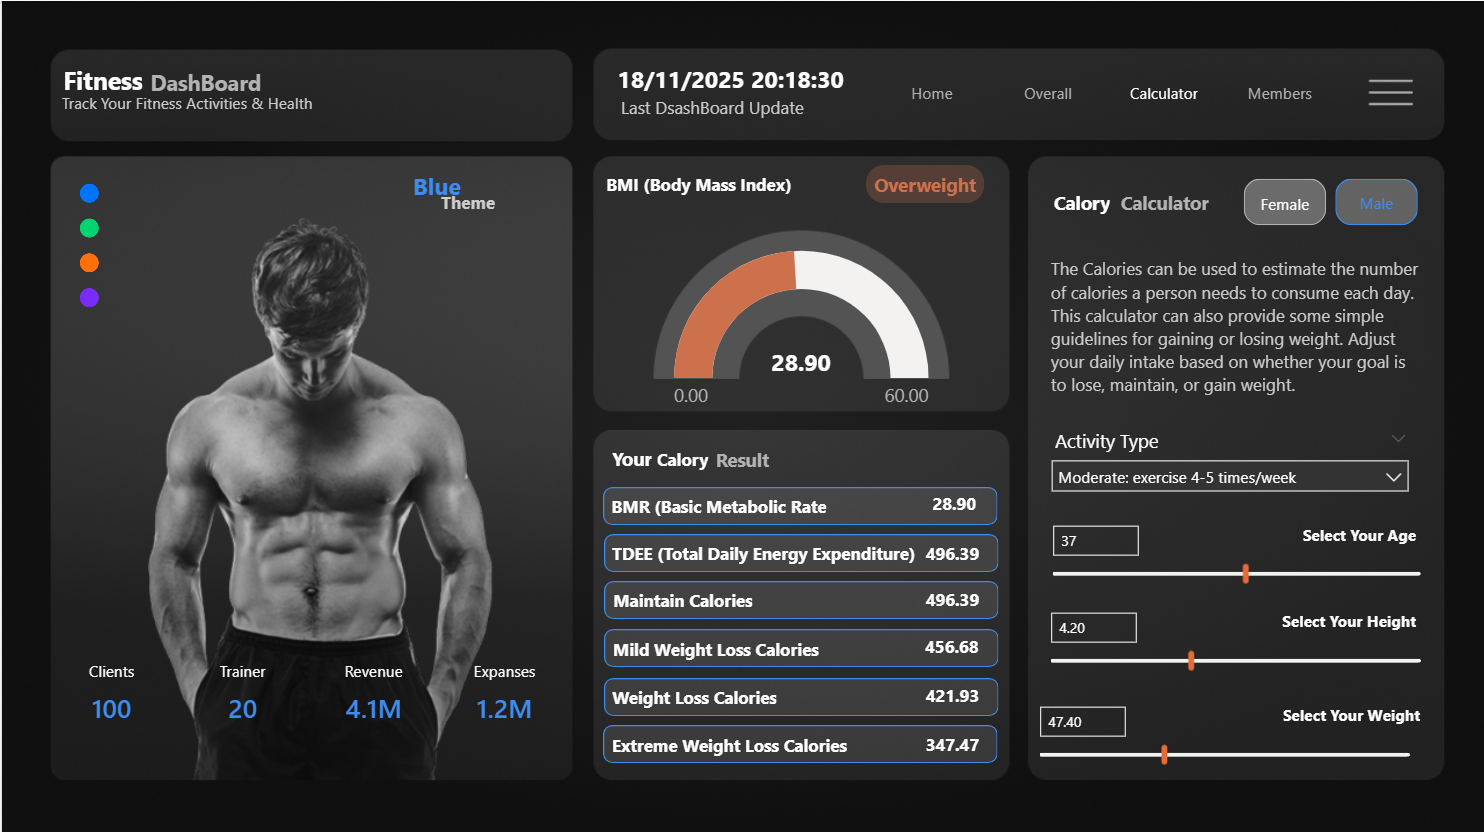

The dashboard page shown, as its layout file describes it:
{"tool":"powerbi","page":{"name":"Calculator","canvas":[1280,720],"ordinal":2},"visuals":[{"type":"slicer","fields":{"Values":["Parameter.Parameter"]},"box":[893.8,442.5,343.2,68.3],"z":0},{"type":"slicer","fields":{"Values":["Height Slider.Height Slider"]},"box":[892,517.8,344.9,66.5],"z":1000},{"type":"slicer","fields":{"Values":["Weight Slider.Weight Slider"]},"box":[882.3,598.5,344.9,64.7],"z":2000},{"type":"slicer","fields":{"Values":["Slider Activity.Category"]},"box":[895.6,363.4,328.1,65.6],"z":3000},{"type":"advancedSlicerVisual","fields":{"Values":["Slider Gender.Category"]},"box":[1066.5,148.3,160.4,50.1],"z":4000},{"type":"shape","box":[50.1,51.1,74.2,33.1],"z":5000},{"type":"shape","box":[127.3,53.1,96.2,33.1],"z":6000},{"type":"shape","box":[894.1,157.3,74.2,33.1],"z":7000},{"type":"shape","box":[955.2,157.4,96.2,33.1],"z":8000},{"type":"textbox","box":[900,215.5,329,138.3],"z":9000},{"type":"shape","box":[518.6,419.4,340.5,32.8],"z":10000},{"type":"shape","box":[1081,443.3,139.2,32.8],"z":11000},{"type":"shape","box":[519,459.5,340.5,32.8],"z":12000},{"type":"shape","box":[1081,517.8,139.2,32.8],"z":13000},{"type":"shape","box":[519,500.2,340.5,32.8],"z":14000},{"type":"shape","box":[1084.5,598.5,139.2,32.8],"z":15000},{"type":"gauge","fields":{"Y":["_Measures.BMI"]},"box":[568.4,210.1,242.1,150.7],"z":16000},{"type":"cardVisual","fields":{"Data":["_Measures.BMI"]},"box":[594.1,277.5,190.6,56.7],"z":17000},{"type":"shape","box":[512.5,141.9,177.3,32.8],"z":18000},{"type":"shape","box":[519.6,541.9,340.5,32.8],"z":19000},{"type":"shape","box":[744.8,141.9,102,32.8],"z":20000},{"type":"shape","box":[519.6,583.6,340.5,32.8],"z":21000},{"type":"shape","box":[520.4,419.4,196.8,32.8],"z":22000},{"type":"shape","box":[518.3,624.7,340.5,32.8],"z":23000},{"type":"cardVisual","fields":{"Data":["_Measures.BMI"]},"box":[785.1,399.4,73.7,60],"z":24000},{"type":"shape","box":[506.7,377.5,74.2,33.1],"z":25000},{"type":"shape","box":[590.5,378.6,95.8,32.8],"z":26000},{"type":"shape","box":[550.6,378.6,73.6,32.8],"z":27000},{"type":"shape","box":[523.1,459.4,268.4,32.8],"z":28000},{"type":"shape","box":[513.1,500.4,148.3,32.8],"z":29000},{"type":"cardVisual","fields":{"Data":["_Measures.TDEE"]},"box":[776,442.1,87.3,60],"z":30000},{"type":"cardVisual","fields":{"Data":["_Measures.Maintain Calories"]},"box":[776,482.2,87.3,60],"z":31000},{"type":"shape","box":[517.6,542.2,196.5,32.8],"z":32000},{"type":"cardVisual","fields":{"Data":["_Measures.Mild Weight Loss Calories"]},"box":[776,523.1,86.4,60],"z":33000},{"type":"shape","box":[521.3,583.1,152.8,33.7],"z":34000},{"type":"shape","box":[520.4,625,214.7,32.8],"z":35000},{"type":"cardVisual","fields":{"Data":["_Measures.Weight Loss Calories"]},"box":[776,564.9,87.3,60],"z":36000},{"type":"cardVisual","fields":{"Data":["_Measures.Extreme Weight Loss Calories"]},"box":[776,606.8,87.3,60],"z":37000},{"type":"shape","box":[52.1,64.2,245.6,47.1],"z":38000},{"type":"image","box":[1154.7,51.1,87.2,58.1],"z":39000},{"type":"shape","box":[488.5,49.9,280.7,33.1],"z":40000},{"type":"shape","box":[533.6,67,245.6,47.1],"z":41000},{"type":"pageNavigator","box":[756.9,60,393,36.4],"z":42000},{"type":"advancedSlicerVisual","fields":{"Values":["ColorCodes.Color"],"Label":["Min(ColorCodes.Icon)"]},"box":[57.3,150.1,37.3,125.5],"z":43000},{"type":"shape","box":[234.7,141.9,281.1,33.7],"z":44000},{"type":"shape","box":[378.5,149.2,54.6,47.3],"z":45000},{"type":"cardVisual","fields":{"Data":["_Measures.Users_Count"]},"box":[39.9,556.4,110,80],"z":46000},{"type":"cardVisual","fields":{"Data":["Count(Users.Trainer Name)"]},"box":[152.7,556.4,110,80],"z":47000},{"type":"cardVisual","fields":{"Data":["_Measures.Revenue"]},"box":[265.5,556.4,110,80],"z":48000},{"type":"cardVisual","fields":{"Data":["_Measures.Expanses"]},"box":[378.4,556.4,110,80],"z":49000}]}

Visuals, with their boxes in screenshot pixels (x1, y1, x2, y2), scaled from the page's 1280x720 canvas onto the 1484x832 screenshot:
slicer - Parameter.Parameter: bbox=[1036, 511, 1434, 590]
slicer - Height Slider.Height Slider: bbox=[1034, 598, 1434, 675]
slicer - Weight Slider.Weight Slider: bbox=[1023, 692, 1423, 766]
slicer - Slider Activity.Category: bbox=[1038, 420, 1419, 496]
advancedSlicerVisual - Slider Gender.Category: bbox=[1236, 171, 1422, 229]
shape: bbox=[58, 59, 144, 97]
shape: bbox=[148, 61, 259, 100]
shape: bbox=[1037, 182, 1123, 220]
shape: bbox=[1107, 182, 1219, 220]
textbox: bbox=[1043, 249, 1425, 409]
shape: bbox=[601, 485, 996, 523]
shape: bbox=[1253, 512, 1415, 550]
shape: bbox=[602, 531, 996, 569]
shape: bbox=[1253, 598, 1415, 636]
shape: bbox=[602, 578, 996, 616]
shape: bbox=[1257, 692, 1419, 730]
gauge - _Measures.BMI: bbox=[659, 243, 940, 417]
cardVisual - _Measures.BMI: bbox=[689, 321, 910, 386]
shape: bbox=[594, 164, 800, 202]
shape: bbox=[602, 626, 997, 664]
shape: bbox=[864, 164, 982, 202]
shape: bbox=[602, 674, 997, 712]
shape: bbox=[603, 485, 832, 523]
shape: bbox=[601, 722, 996, 760]
cardVisual - _Measures.BMI: bbox=[910, 462, 996, 531]
shape: bbox=[587, 436, 673, 474]
shape: bbox=[685, 437, 796, 475]
shape: bbox=[638, 437, 724, 475]
shape: bbox=[606, 531, 918, 569]
shape: bbox=[595, 578, 767, 616]
cardVisual - _Measures.TDEE: bbox=[900, 511, 1001, 580]
cardVisual - _Measures.Maintain Calories: bbox=[900, 557, 1001, 627]
shape: bbox=[600, 627, 828, 664]
cardVisual - _Measures.Mild Weight Loss Calories: bbox=[900, 604, 1000, 674]
shape: bbox=[604, 674, 782, 713]
shape: bbox=[603, 722, 852, 760]
cardVisual - _Measures.Weight Loss Calories: bbox=[900, 653, 1001, 722]
cardVisual - _Measures.Extreme Weight Loss Calories: bbox=[900, 701, 1001, 771]
shape: bbox=[60, 74, 345, 129]
image: bbox=[1339, 59, 1440, 126]
shape: bbox=[566, 58, 892, 96]
shape: bbox=[619, 77, 903, 132]
pageNavigator: bbox=[878, 69, 1333, 111]
advancedSlicerVisual - ColorCodes.Color x Min(ColorCodes.Icon): bbox=[66, 173, 110, 318]
shape: bbox=[272, 164, 598, 203]
shape: bbox=[439, 172, 502, 227]
cardVisual - _Measures.Users_Count: bbox=[46, 643, 174, 735]
cardVisual - Count(Users.Trainer Name): bbox=[177, 643, 305, 735]
cardVisual - _Measures.Revenue: bbox=[308, 643, 435, 735]
cardVisual - _Measures.Expanses: bbox=[439, 643, 566, 735]
